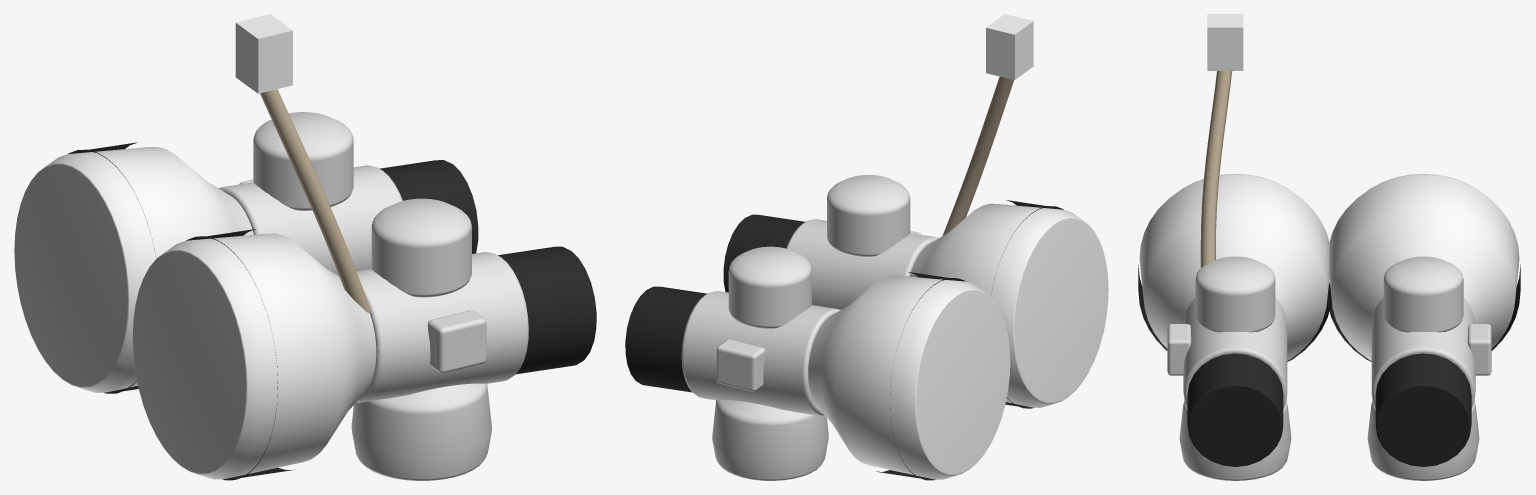
Rendered from bike_classic_4t__carb.glb.
The picture shows the model from 3 angles, left to right: view 1: azimuth 30°, elevation 25°; view 2: azimuth 150°, elevation 25°; view 3: azimuth 270°, elevation 25°; orthographic projection. The views are drawn at different scales.
Parts seen in each view (by area): view 1: powertrain__intake__air_filters, powertrain__intake__carburettors, powertrain__intake__manifold_rubbers, powertrain__fuel_system__tap_and_line; view 2: powertrain__intake__air_filters, powertrain__intake__carburettors, powertrain__intake__manifold_rubbers, powertrain__fuel_system__tap_and_line; view 3: powertrain__intake__air_filters, powertrain__intake__carburettors, powertrain__intake__manifold_rubbers, powertrain__fuel_system__tap_and_line.
Part boxes in pixels (x1,y1,x2,y2): powertrain__intake__air_filters: (14,142,376,480); powertrain__intake__carburettors: (218,112,528,480); powertrain__intake__manifold_rubbers: (380,160,596,374); powertrain__fuel_system__tap_and_line: (235,14,370,313); powertrain__intake__air_filters: (808,200,1108,480); powertrain__intake__carburettors: (681,175,938,480); powertrain__intake__manifold_rubbers: (625,214,805,392); powertrain__fuel_system__tap_and_line: (942,14,1033,235); powertrain__intake__air_filters: (1138,173,1520,361); powertrain__intake__carburettors: (1167,256,1491,480); powertrain__intake__manifold_rubbers: (1187,353,1471,466); powertrain__fuel_system__tap_and_line: (1200,14,1243,267).
Size of the model in its own units: 17.94 by 20.75 by 19.2.
